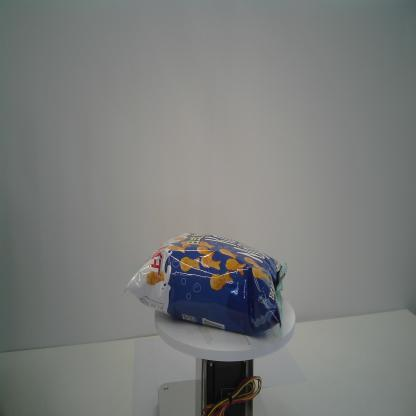Puffed Food: (123, 232, 288, 337)
